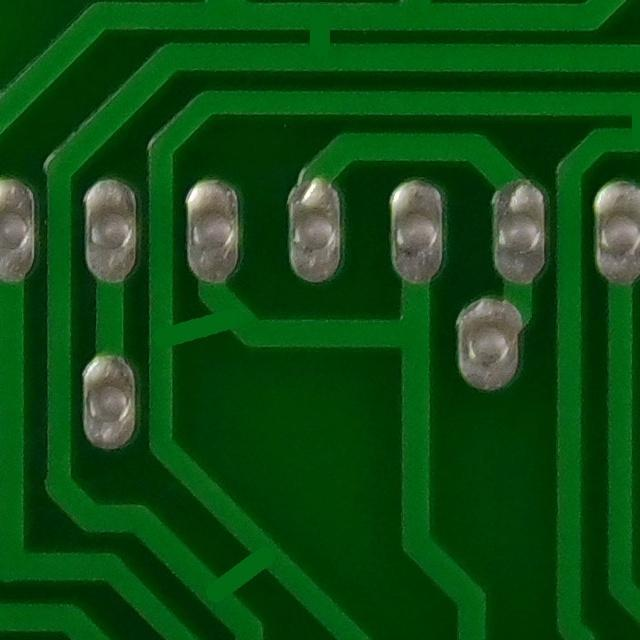short: (174, 526, 305, 619), (136, 292, 262, 367), (289, 0, 349, 82), (605, 87, 640, 165)
